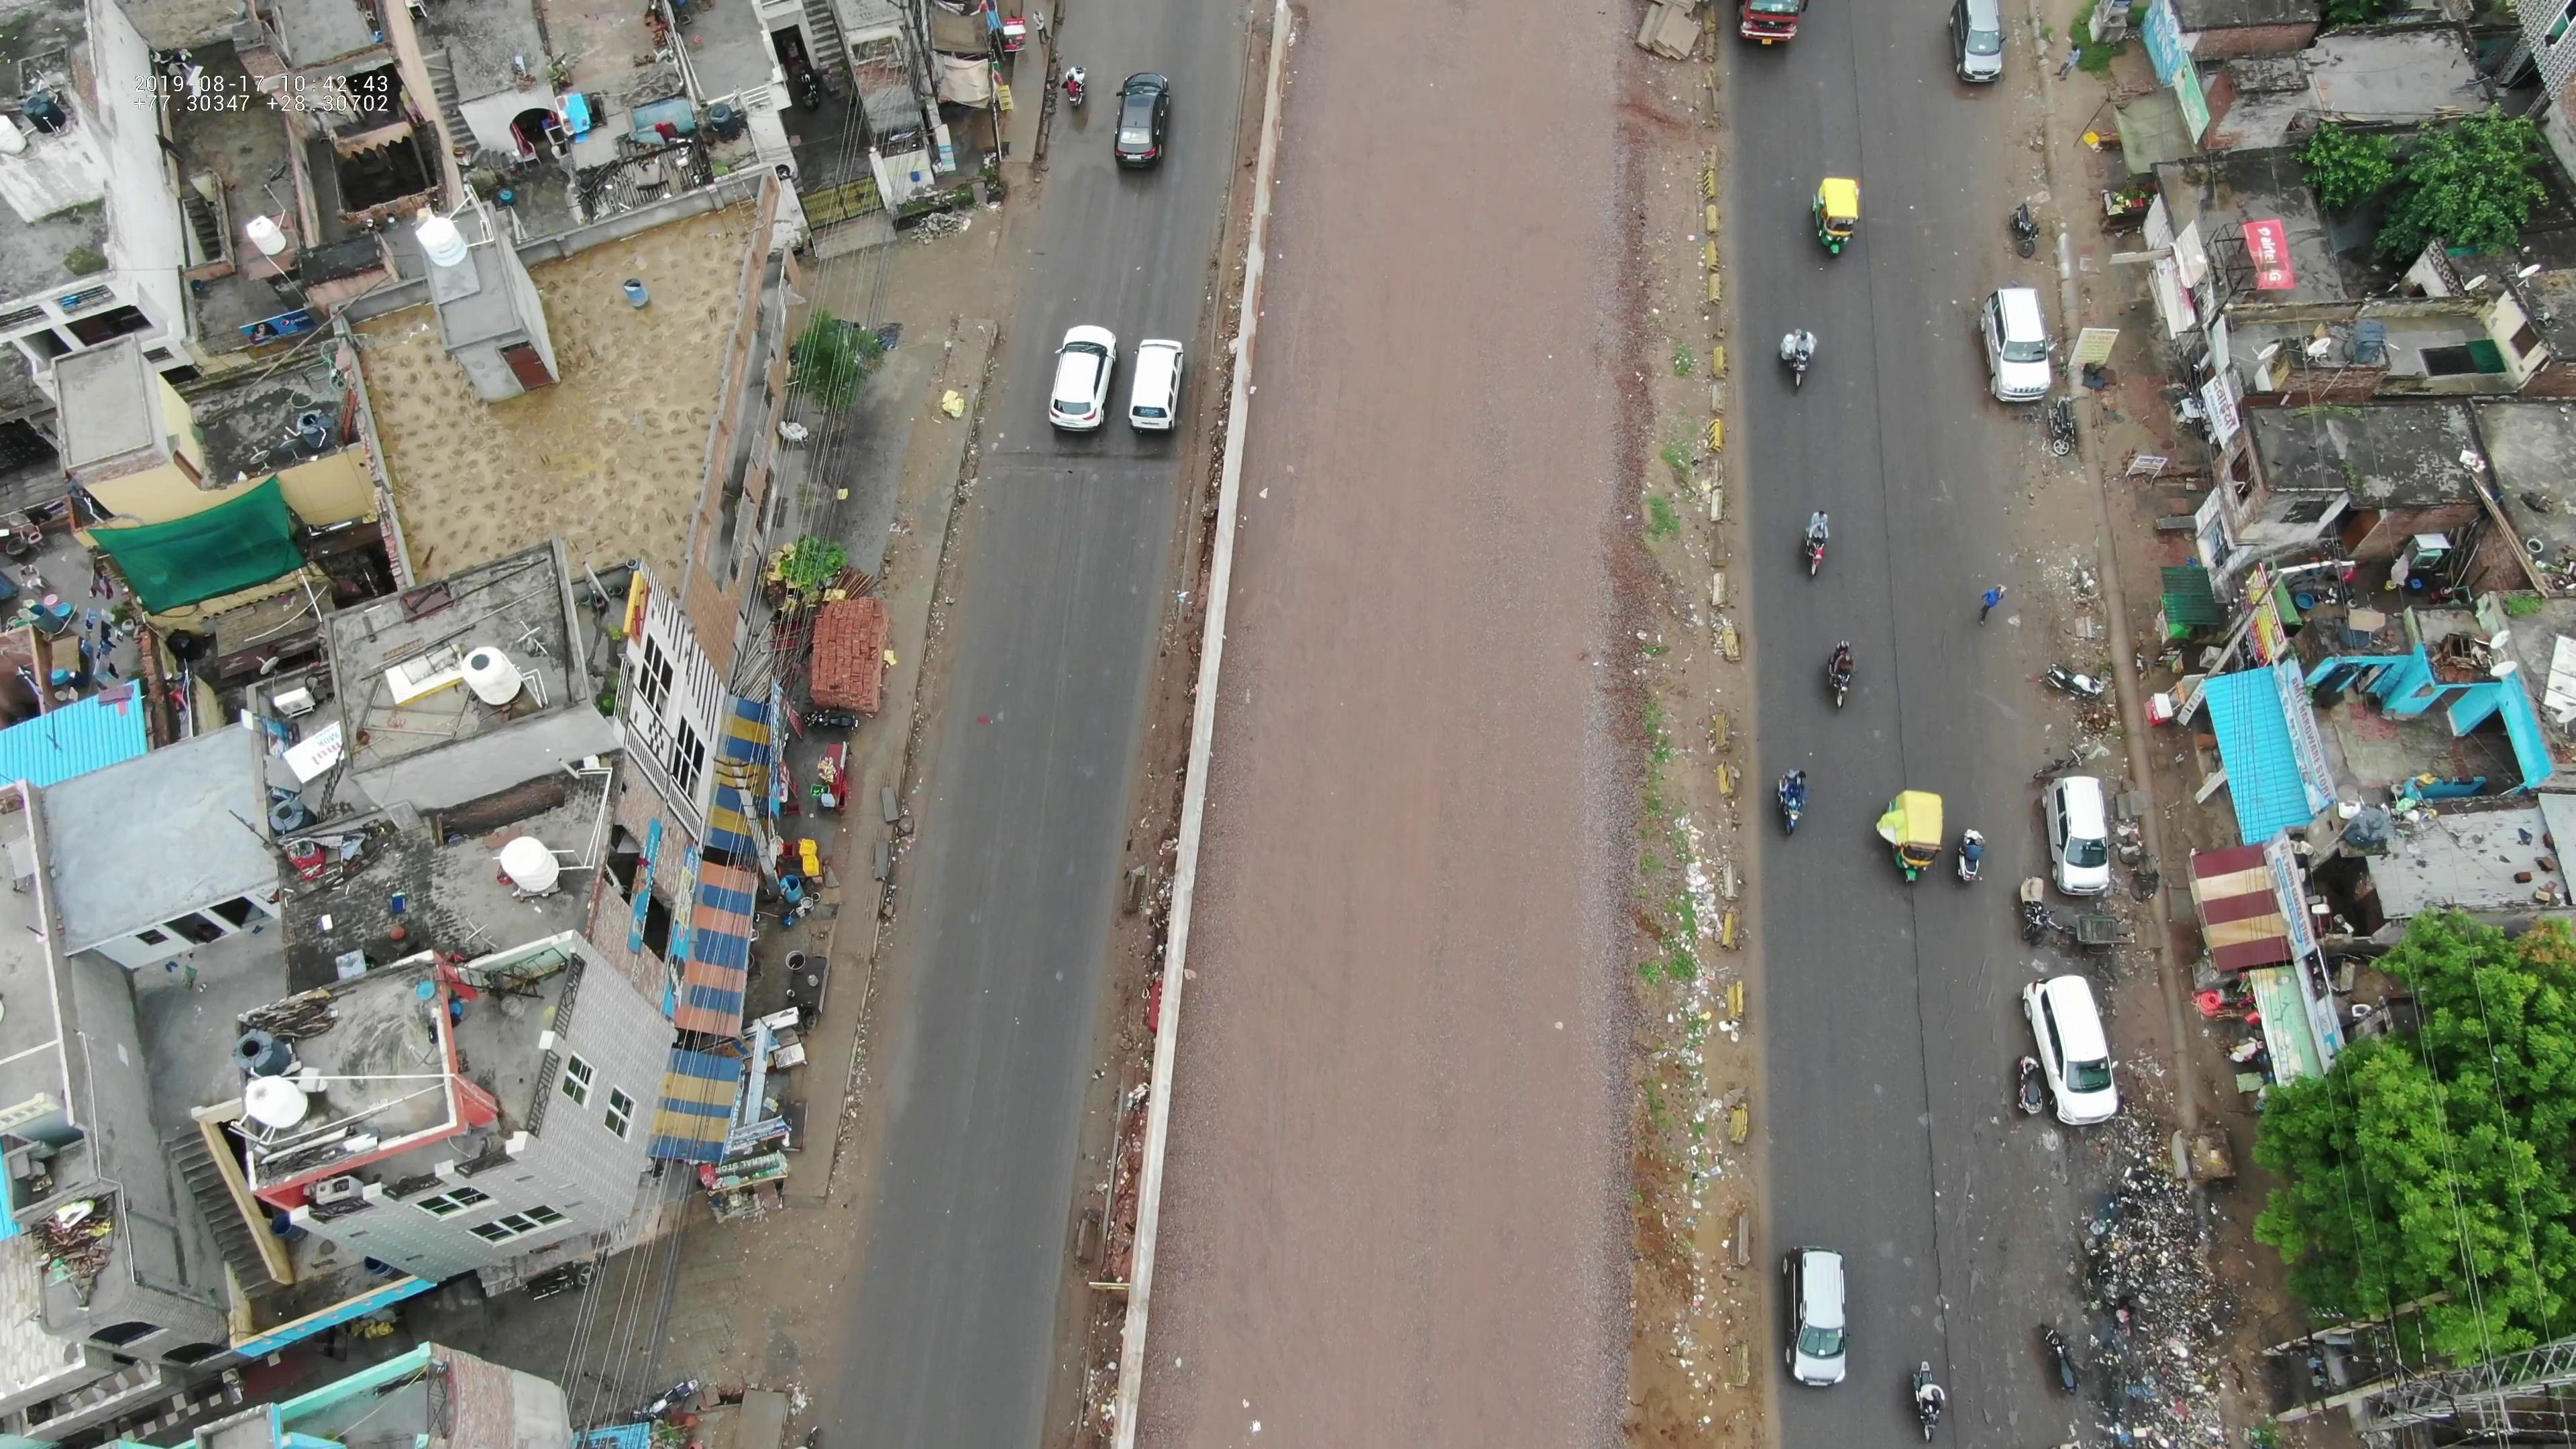Road_side_garbage: (2089, 1192, 2226, 1449)
